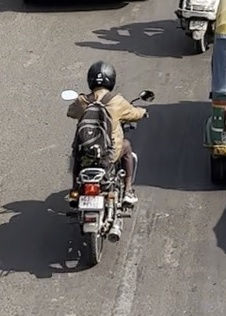BikeWithRider: (55, 56, 158, 268)
Helmet: (82, 56, 120, 94)
